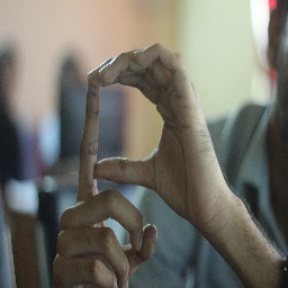D: (76, 39, 199, 201)
